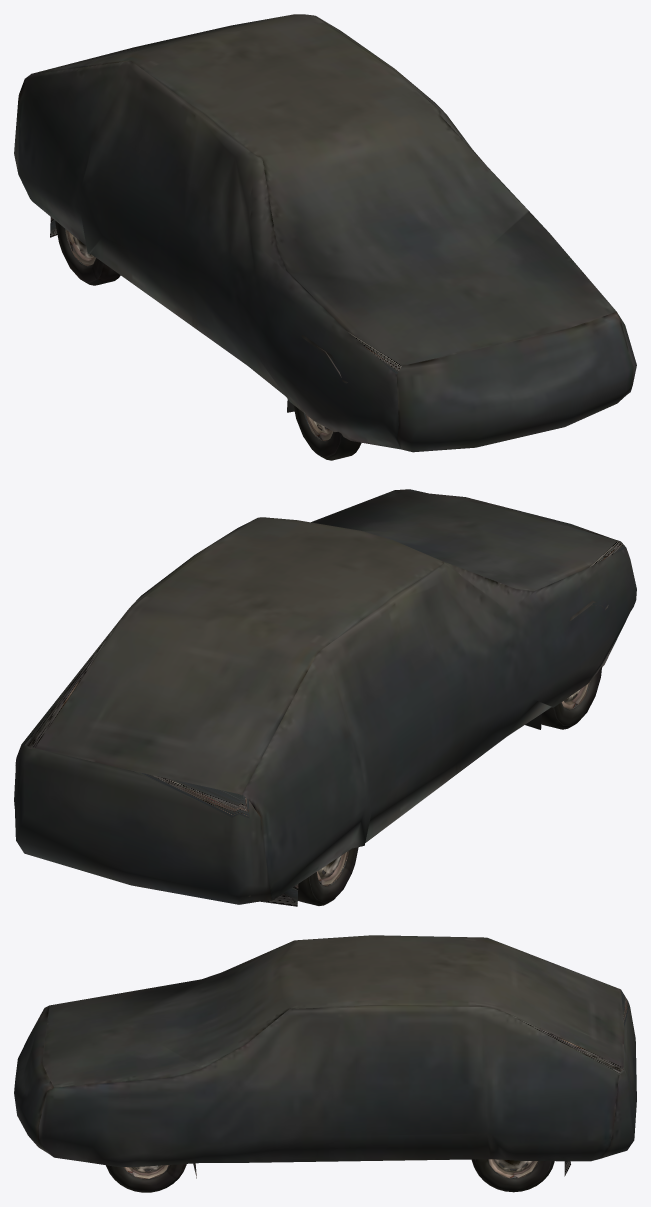
Rendered from covered_car.glb.
3 renders of one model, top to bottom at view 1: azimuth 30°, elevation 25°; view 2: azimuth 150°, elevation 25°; view 3: azimuth 270°, elevation 25°, orthographic. The views are drawn at different scales.
Visible parts, largest first — view 1: covered_car, covered_car_wheel_03, covered_car_wheel_02; view 2: covered_car, covered_car_wheel_03, covered_car_wheel_02; view 3: covered_car, covered_car_wheel_04, covered_car_wheel_01.
Part boxes in pixels (x1=…): covered_car: x1=14, y1=14, x2=636, y2=452; covered_car_wheel_03: x1=55, y1=221, x2=120, y2=285; covered_car_wheel_02: x1=293, y1=405, x2=361, y2=460; covered_car: x1=14, y1=489, x2=636, y2=906; covered_car_wheel_03: x1=298, y1=847, x2=358, y2=905; covered_car_wheel_02: x1=541, y1=666, x2=601, y2=729; covered_car: x1=14, y1=935, x2=636, y2=1178; covered_car_wheel_04: x1=471, y1=1159, x2=554, y2=1192; covered_car_wheel_01: x1=106, y1=1164, x2=186, y2=1192.
Size of the model in its own units: 1.79 by 1.41 by 4.38.
Materials: 1 (1 with a texture image).
